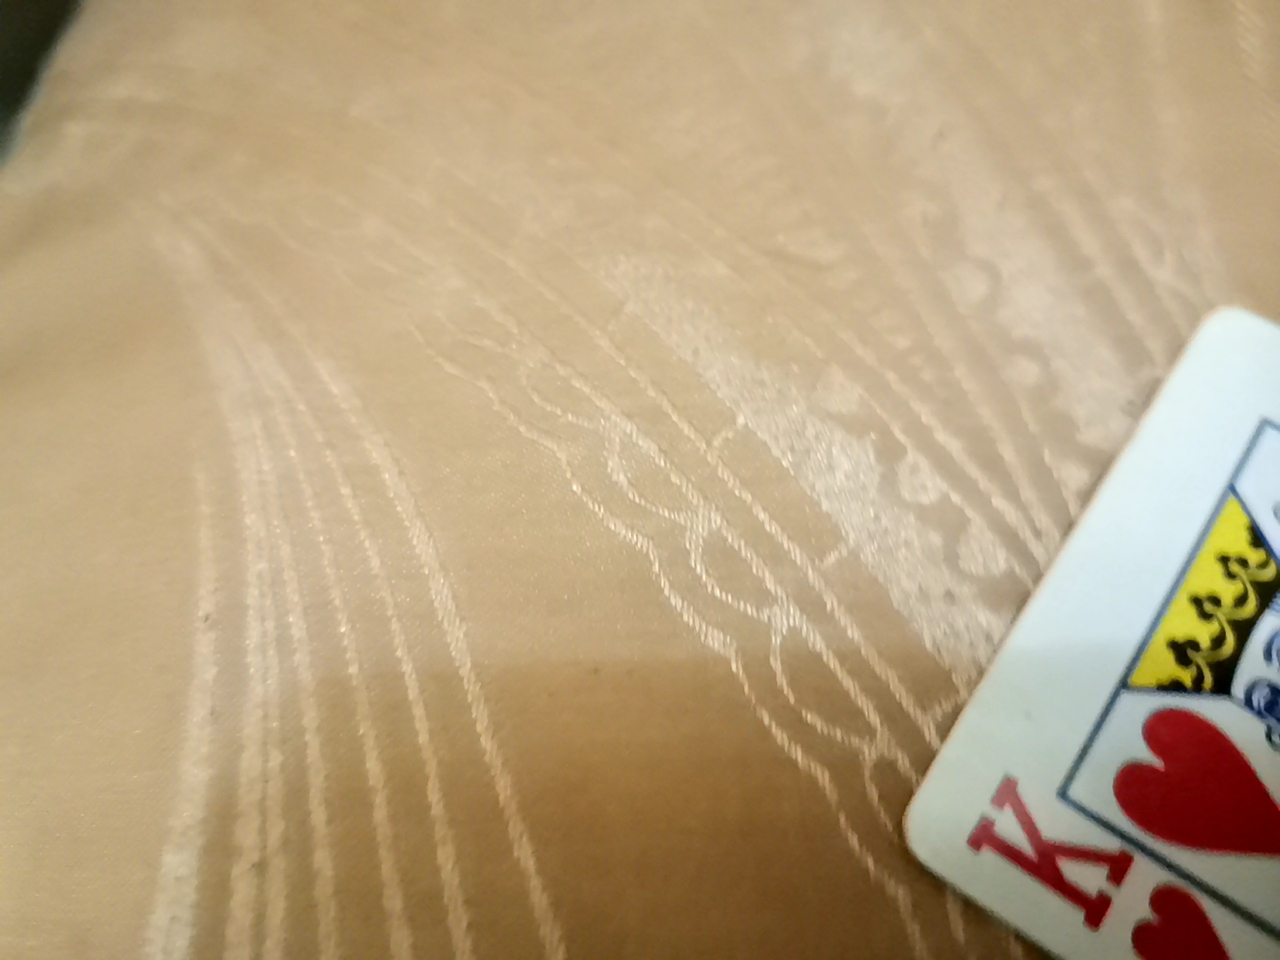hx k: (849, 310, 1274, 960)
